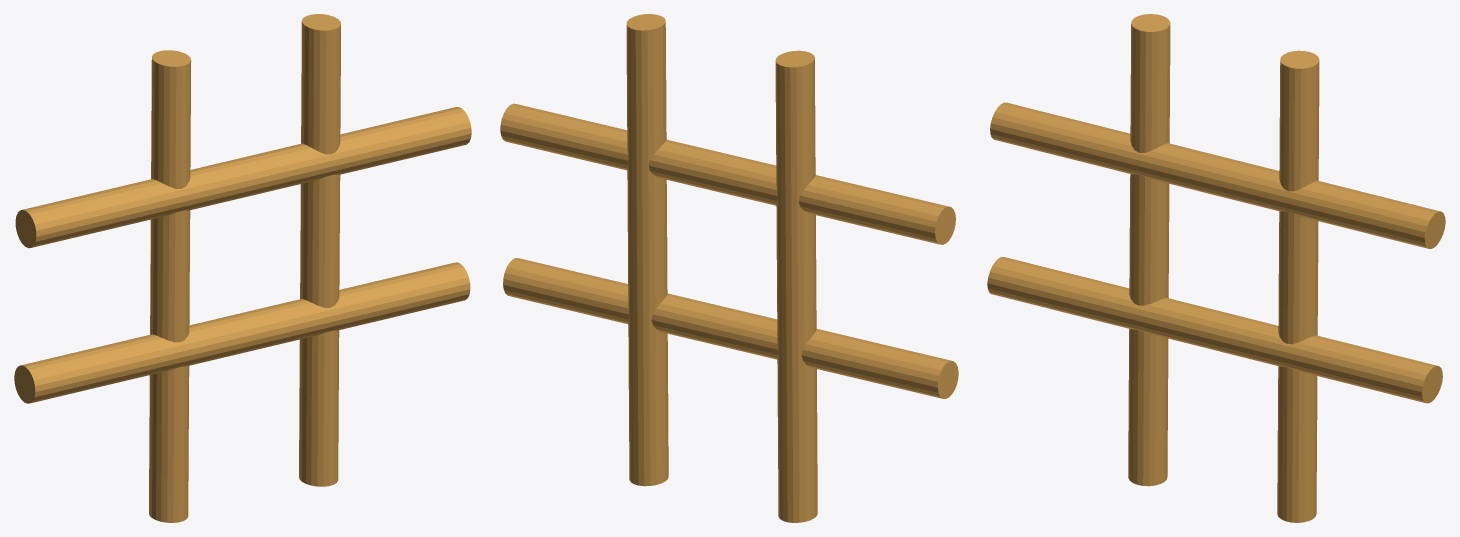
The model's file is BoardObject.glb.
The picture shows the model from 3 angles, left to right: view 1: azimuth 30°, elevation 25°; view 2: azimuth 150°, elevation 25°; view 3: azimuth 330°, elevation 25°; orthographic projection.
Visible parts, largest first — view 1: Mesh_Mesh_head_geo.001_lambert2SG.001; view 2: Mesh_Mesh_head_geo.001_lambert2SG.001; view 3: Mesh_Mesh_head_geo.001_lambert2SG.001.
Part boxes in pixels (x1,y1,x2,y2): Mesh_Mesh_head_geo.001_lambert2SG.001: [14, 14, 471, 522]; Mesh_Mesh_head_geo.001_lambert2SG.001: [500, 14, 958, 522]; Mesh_Mesh_head_geo.001_lambert2SG.001: [987, 14, 1445, 522].
Bounding box in the file's own units: 6.04 × 6.02 × 0.577.
